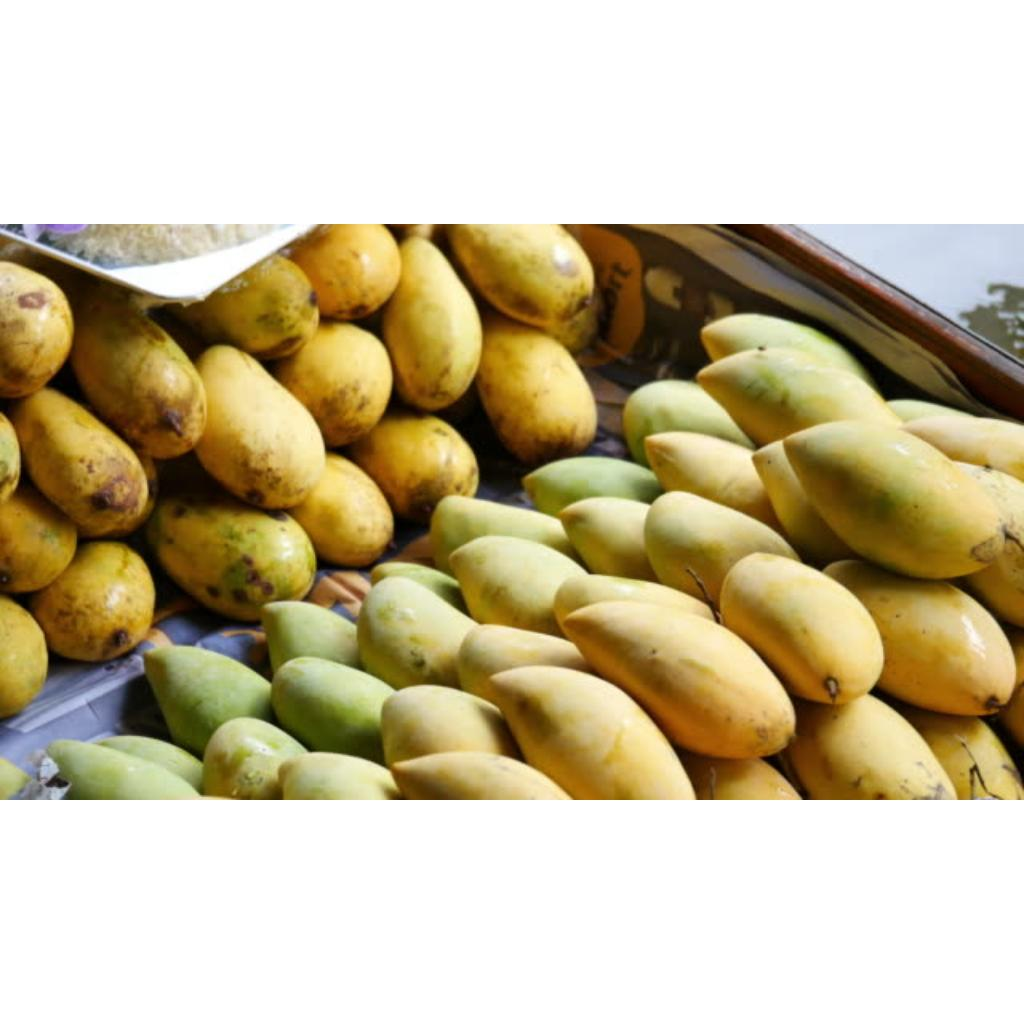mango: (562, 602, 796, 758), (784, 422, 1004, 578), (824, 560, 1016, 715), (490, 666, 694, 799), (720, 552, 882, 704), (70, 296, 206, 458), (146, 494, 316, 621), (8, 388, 148, 537), (194, 346, 322, 508), (698, 348, 902, 445), (786, 694, 956, 800), (478, 314, 596, 465), (382, 238, 482, 411), (646, 494, 798, 605), (172, 254, 318, 360), (30, 542, 154, 661), (451, 224, 594, 327), (274, 322, 392, 445), (350, 412, 476, 521), (450, 536, 586, 635), (644, 432, 780, 531), (144, 650, 274, 753), (358, 576, 476, 688), (700, 314, 876, 387), (272, 658, 394, 763), (754, 440, 856, 565), (290, 452, 394, 567), (430, 494, 576, 571), (622, 380, 754, 465), (382, 686, 520, 765), (290, 224, 400, 319), (0, 262, 74, 397), (46, 740, 200, 800), (390, 752, 572, 800), (558, 496, 656, 581), (0, 484, 76, 593), (522, 456, 662, 515), (204, 720, 306, 799), (554, 574, 714, 623), (262, 602, 359, 671), (278, 752, 400, 800), (0, 596, 48, 717)
